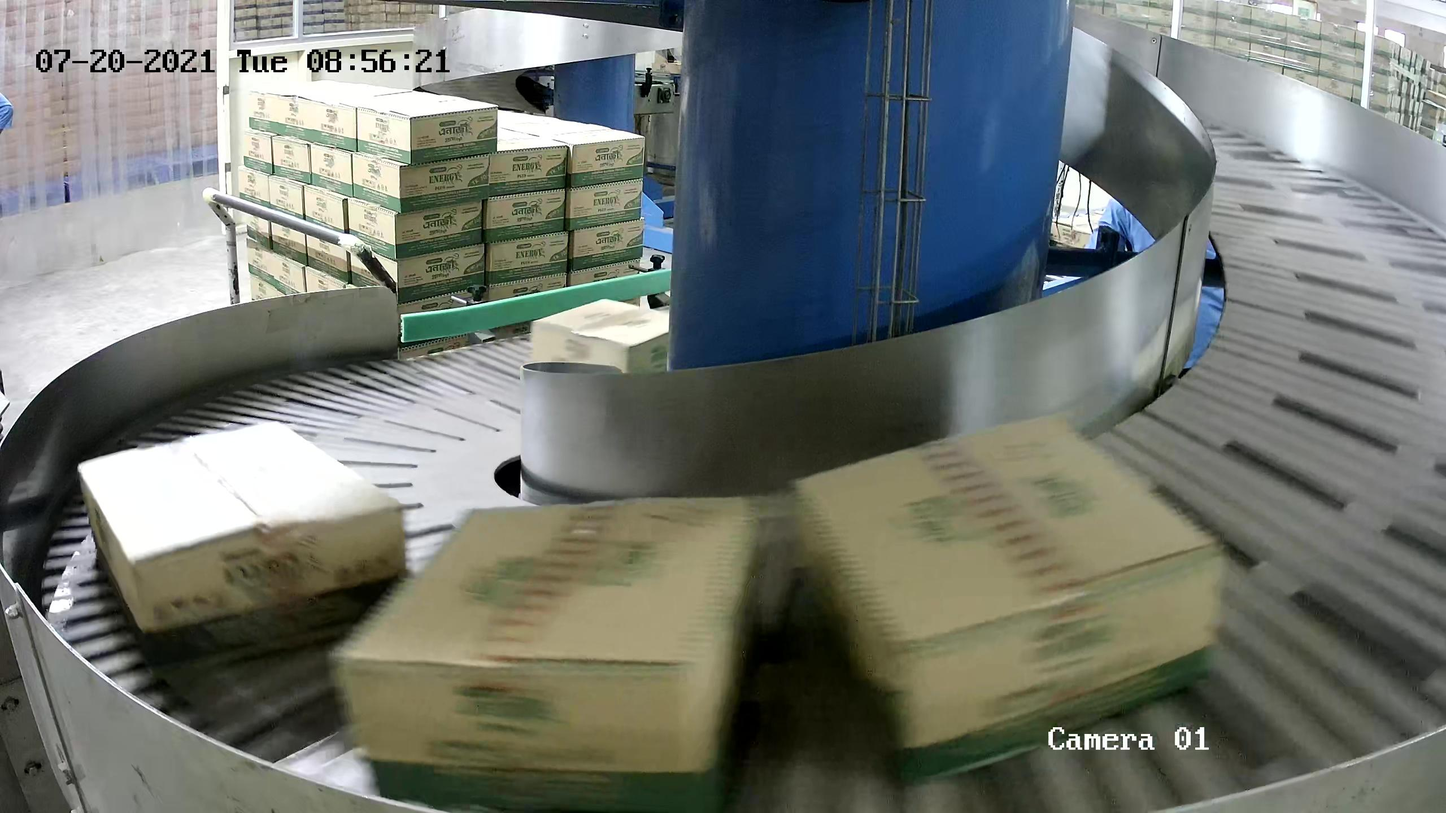Box: (790, 406, 1231, 791), (323, 490, 768, 813), (76, 417, 408, 686), (530, 296, 668, 376)
